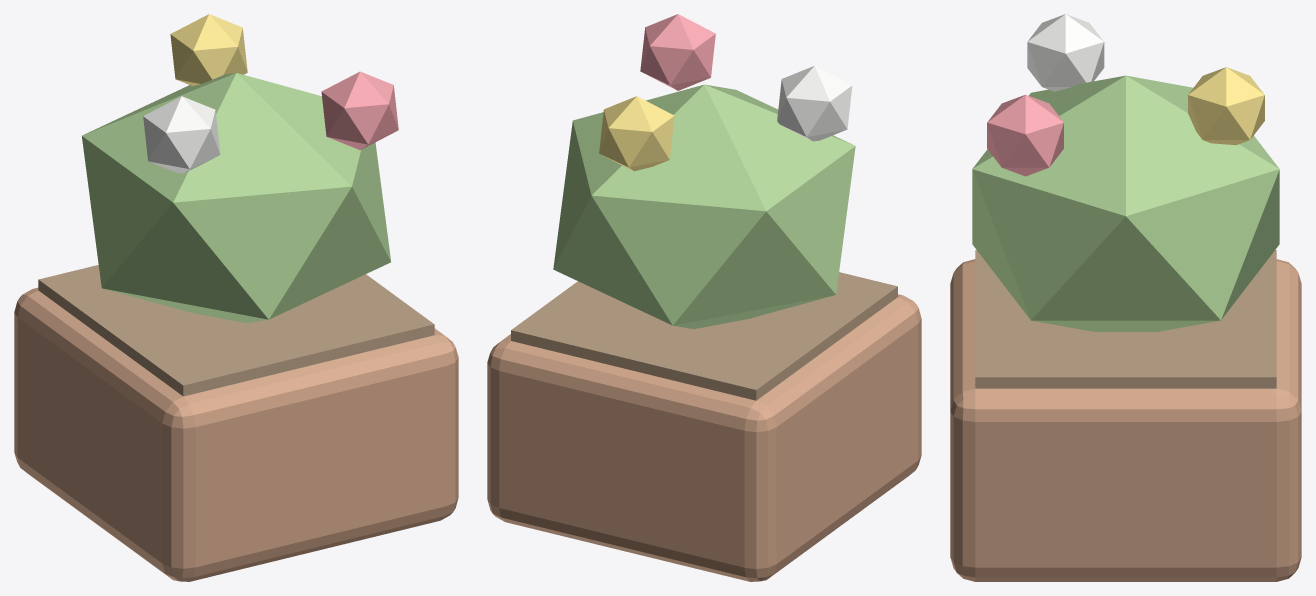
Rendered from planter.glb.
3 views of the same model, side by side, from view 1: azimuth 30°, elevation 25°; view 2: azimuth 150°, elevation 25°; view 3: azimuth 270°, elevation 25° (orthographic). The views are drawn at different scales.
Visible parts, largest first — view 1: planter; view 2: planter; view 3: planter.
Part boxes in pixels (x1=…): planter: x1=14, y1=14, x2=458, y2=581; planter: x1=487, y1=14, x2=921, y2=581; planter: x1=950, y1=14, x2=1301, y2=581.
Size of the model in its own units: 0.7 by 1.01 by 0.7.
